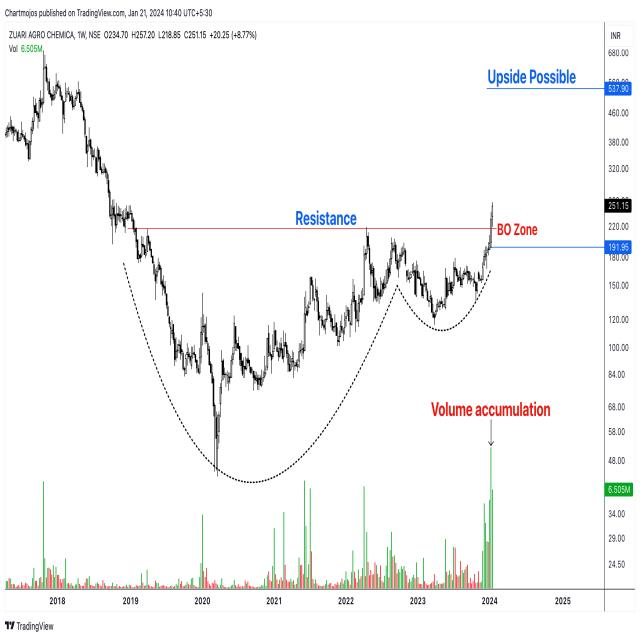Cup-and-handle: (118, 232, 503, 448)
